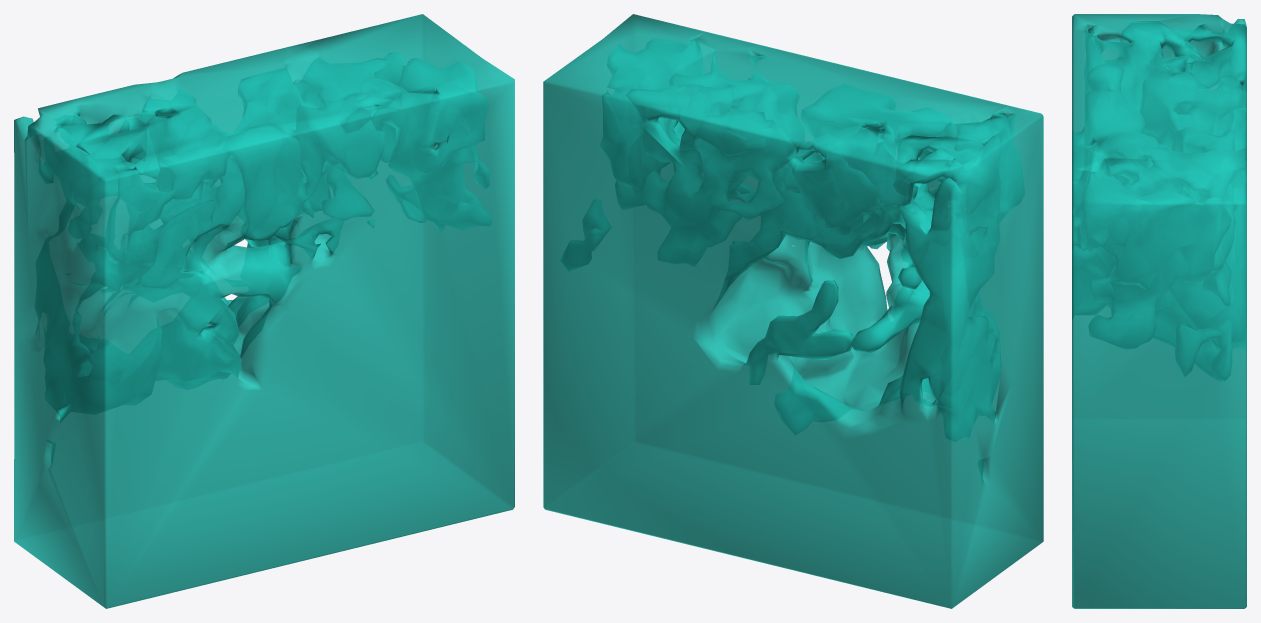
The picture shows the model from 3 angles, left to right: view 1: azimuth 30°, elevation 25°; view 2: azimuth 150°, elevation 25°; view 3: azimuth 270°, elevation 25°; orthographic projection. The views are drawn at different scales.
Visible parts, largest first — view 1: Liquid_Domain; view 2: Liquid_Domain; view 3: Liquid_Domain.
Boxes of the visible parts, box(x1,y1,x2,y2) form: Liquid_Domain: box(14, 14, 514, 608); Liquid_Domain: box(543, 14, 1043, 608); Liquid_Domain: box(1072, 14, 1246, 608).
Bounding box in the file's own units: 884 × 885 × 344.
